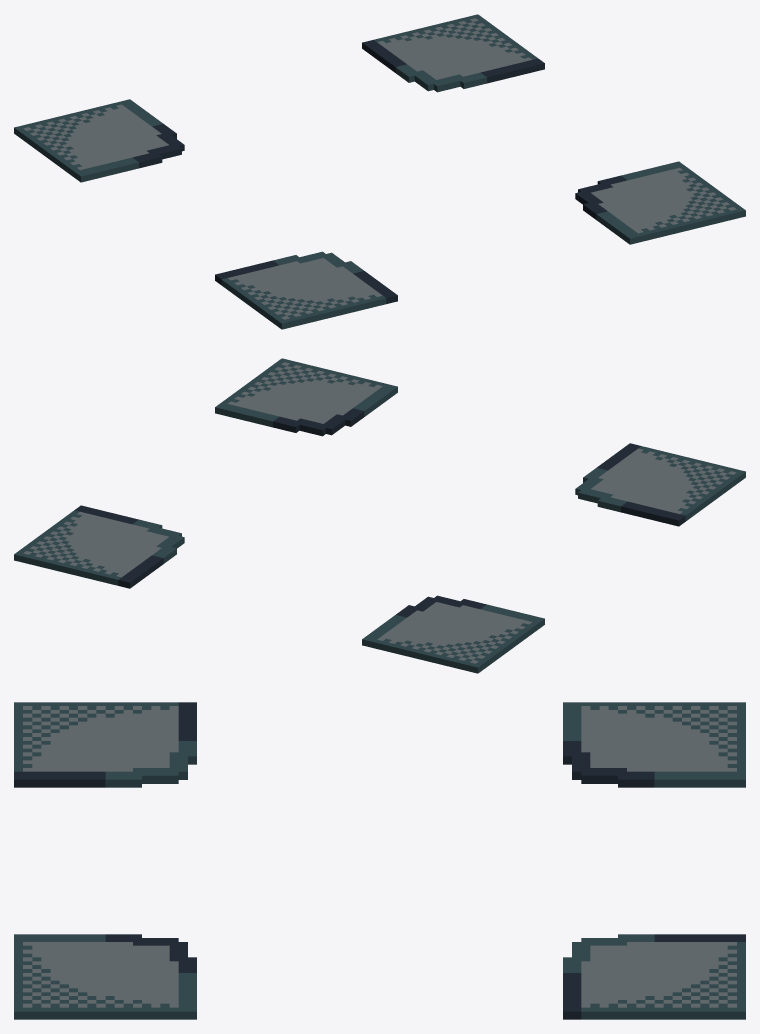
The model's file is road_4_overtile.obj.
The picture shows the model from 3 angles, top to bottom: view 1: azimuth 30°, elevation 25°; view 2: azimuth 150°, elevation 25°; view 3: azimuth 270°, elevation 25°; orthographic projection. The views are drawn at different scales.
Bounding box in the file's own units: 8 × 0.1 × 8.
1 material, 1 textured.
